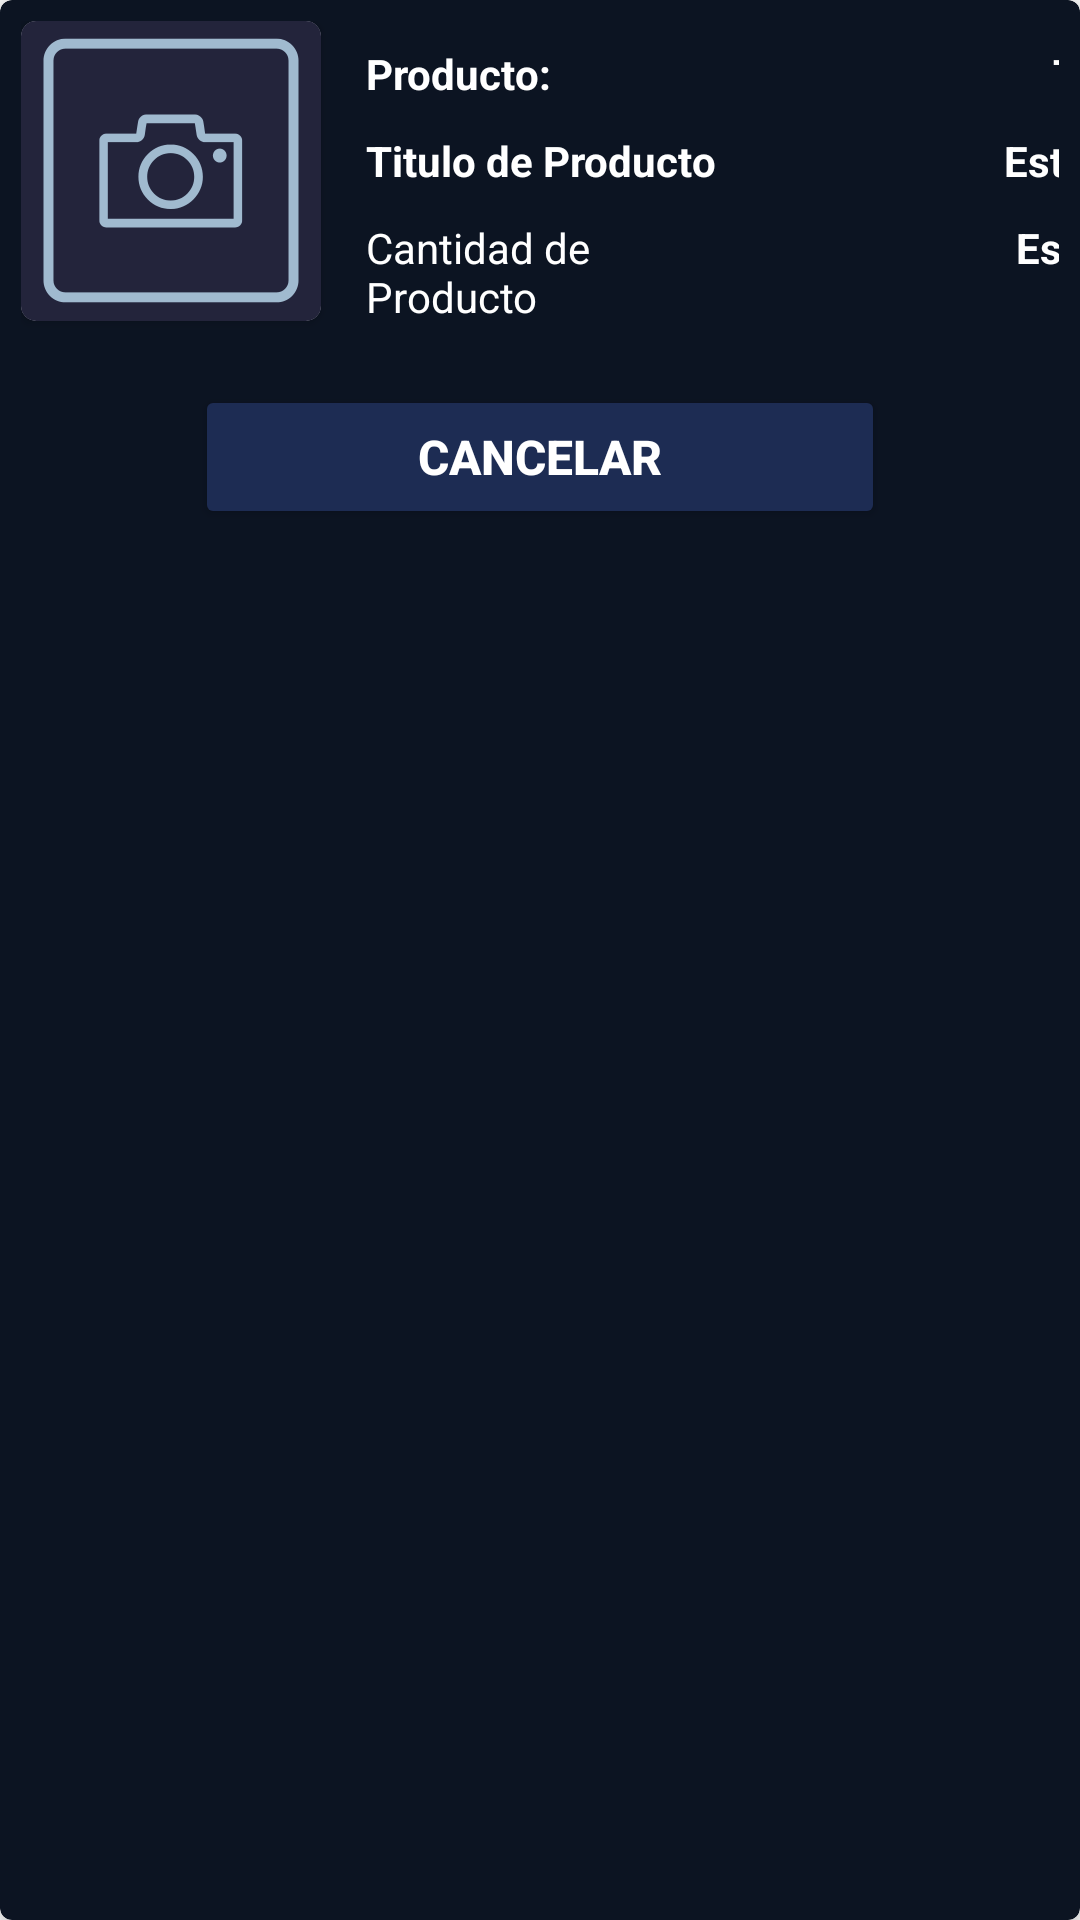

Named icons in this screenshot (1080*1920) and their bounding boxes, (x1, y1, x2, y2):
foto update: (21, 21, 321, 321)
